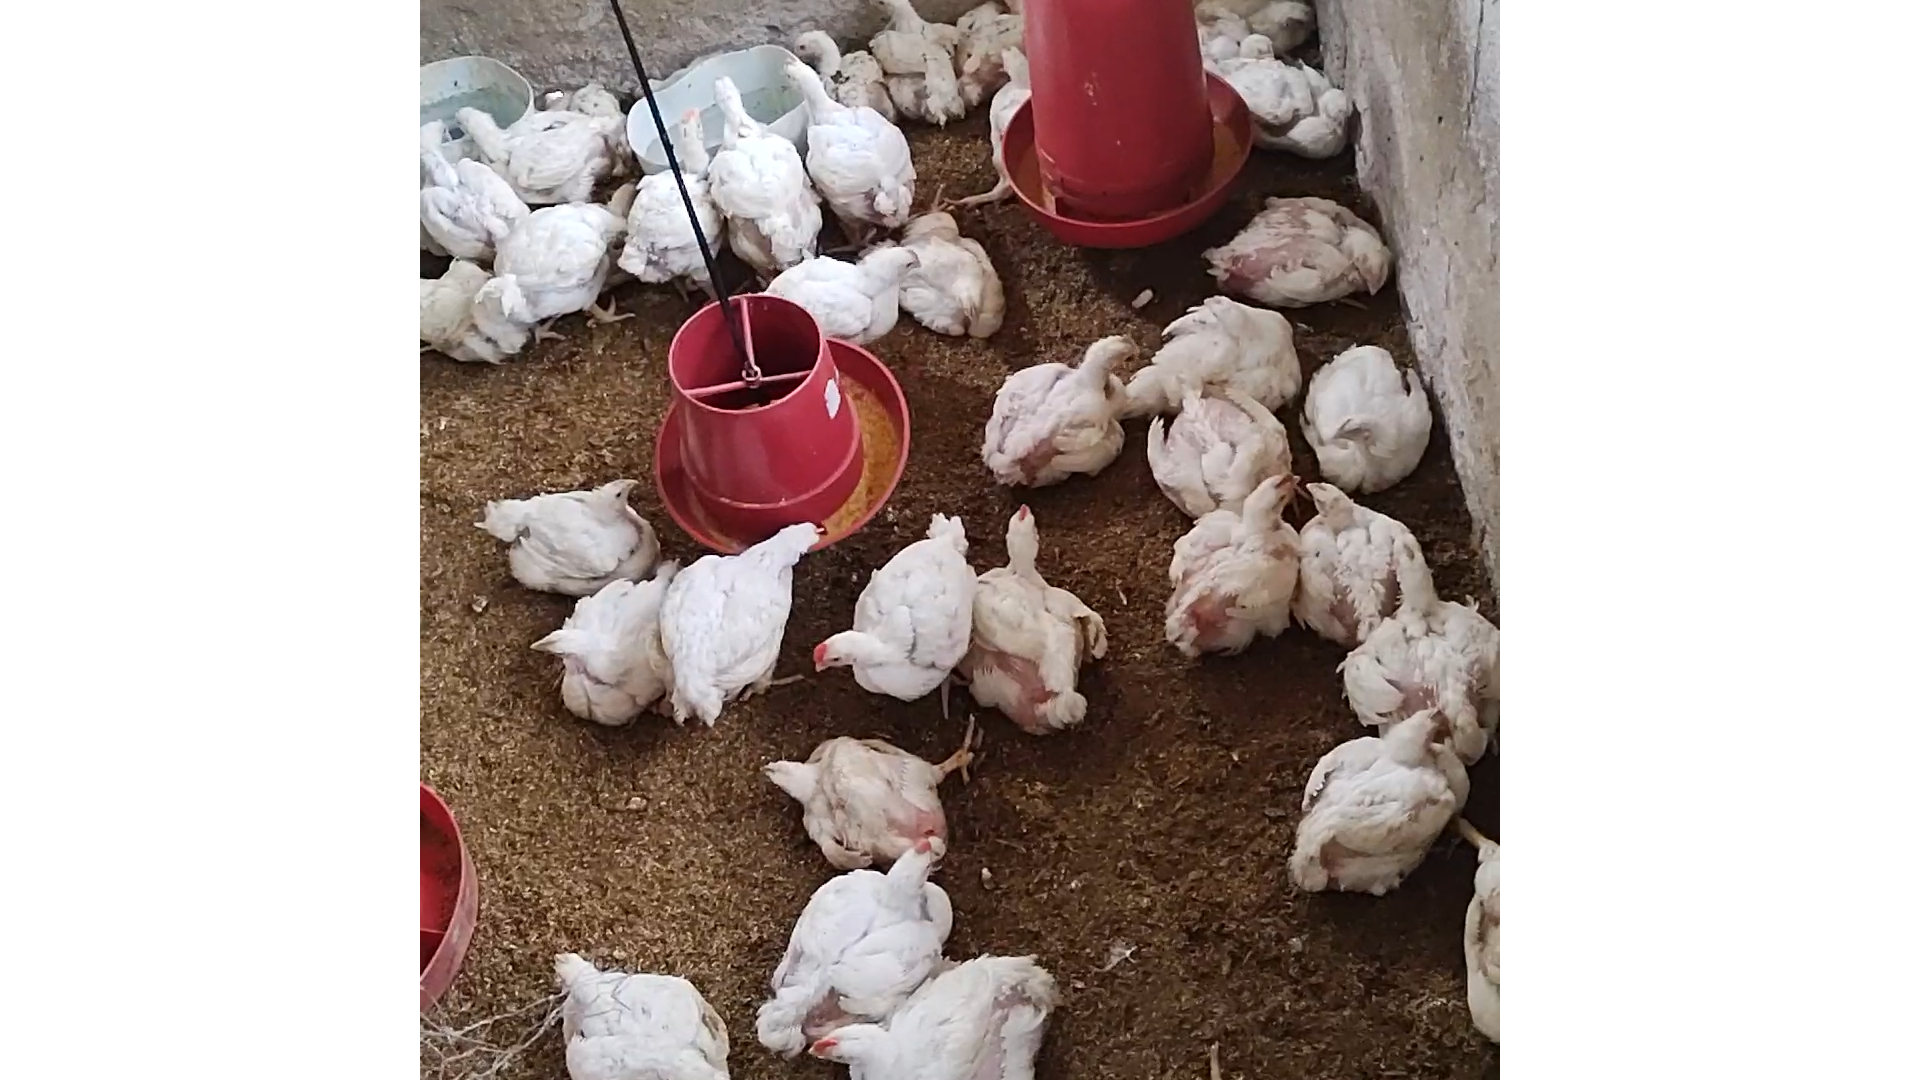Pollos: (748, 829, 953, 1058), (1335, 531, 1502, 765), (800, 942, 1071, 1080), (1286, 702, 1470, 902), (808, 505, 985, 711), (967, 496, 1106, 744), (669, 517, 822, 727), (525, 563, 692, 738), (1159, 472, 1308, 661), (754, 723, 951, 862), (978, 328, 1145, 488), (547, 945, 731, 1080), (782, 54, 914, 233), (1203, 190, 1395, 310), (1299, 477, 1432, 641), (705, 73, 822, 260), (1118, 299, 1299, 419), (491, 195, 632, 348), (1296, 335, 1437, 487), (479, 473, 665, 588), (618, 102, 719, 307), (1147, 384, 1291, 524), (757, 243, 942, 347), (889, 206, 1011, 345), (451, 98, 622, 195), (1207, 49, 1358, 158), (868, 0, 990, 123), (422, 117, 531, 251), (1448, 829, 1503, 1046), (782, 15, 893, 121), (1185, 0, 1321, 59)
